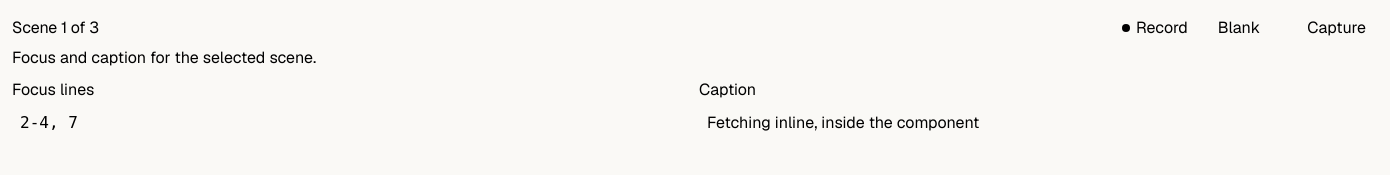
Test: the studio's typed fields › names a rejected focus range next to the field and clears it once fixed
Type "lines two" into the field named "Scene 1 focus lines" at coordinates (352, 122), box [12,108,691,136]
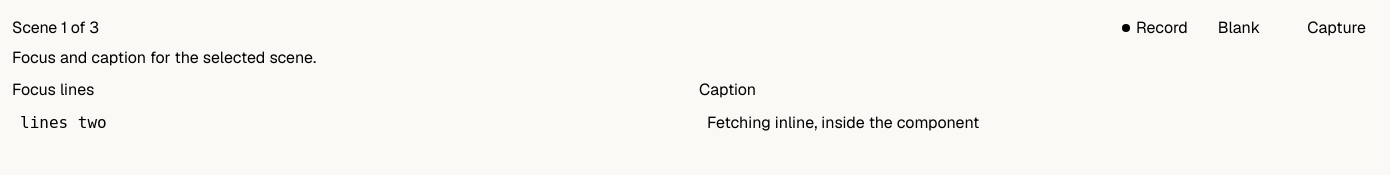
Leave the field named "Scene 1 focus lines", box [12,108,691,136]
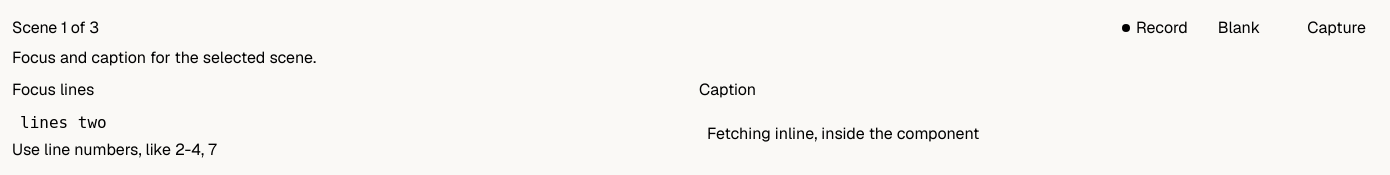
Replace the text in the field named "Scene 1 focus lines" with "2-3" at coordinates (352, 122), box [12,108,691,136]
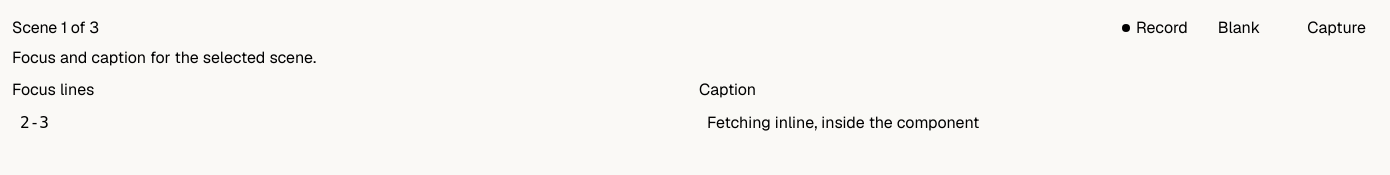
Expected: the text "Use line numbers, like 2-4, 7" is gone
